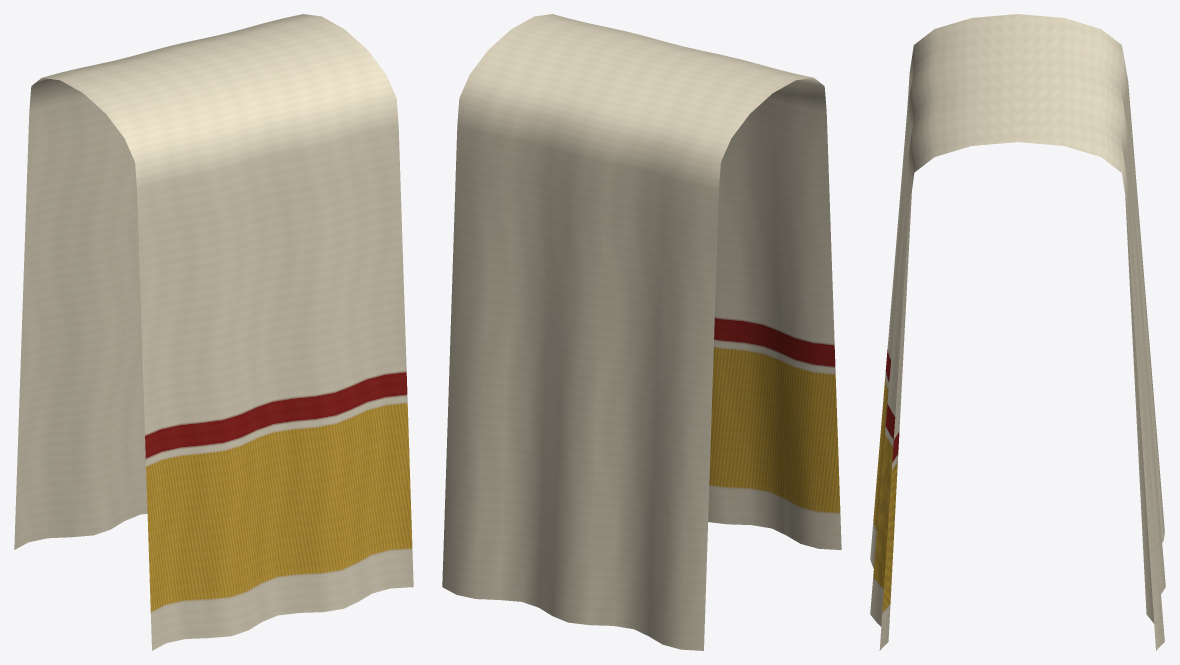
Rendered from cloth_melmundu_kasavu.glb.
3 renders of one model, left to right at view 1: azimuth 30°, elevation 25°; view 2: azimuth 150°, elevation 25°; view 3: azimuth 270°, elevation 25°, orthographic.
Parts seen in each view (by area): view 1: Cloth_Melmundu_Kasavu; view 2: Cloth_Melmundu_Kasavu; view 3: Cloth_Melmundu_Kasavu.
Part boxes in pixels (x1=…): Cloth_Melmundu_Kasavu: x1=14, y1=14, x2=413, y2=650; Cloth_Melmundu_Kasavu: x1=442, y1=14, x2=841, y2=650; Cloth_Melmundu_Kasavu: x1=870, y1=14, x2=1165, y2=650.
Size of the model in its own units: 0.34 by 0.63 by 0.3317.
1 material, 1 textured.
